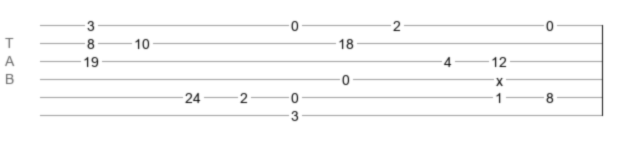0: (291, 90, 299, 100), (291, 18, 299, 28), (342, 72, 350, 82), (546, 18, 554, 28)
1: (495, 90, 503, 100)
10: (134, 36, 150, 46)
12: (491, 54, 507, 64)
18: (338, 36, 354, 46)
19: (83, 54, 99, 64)
2: (240, 90, 248, 100), (393, 18, 401, 28)
24: (185, 90, 201, 100)
3: (87, 18, 95, 28), (291, 108, 299, 118)
4: (444, 54, 452, 64)
8: (87, 36, 95, 46), (546, 90, 554, 100)
x: (496, 73, 503, 81)
